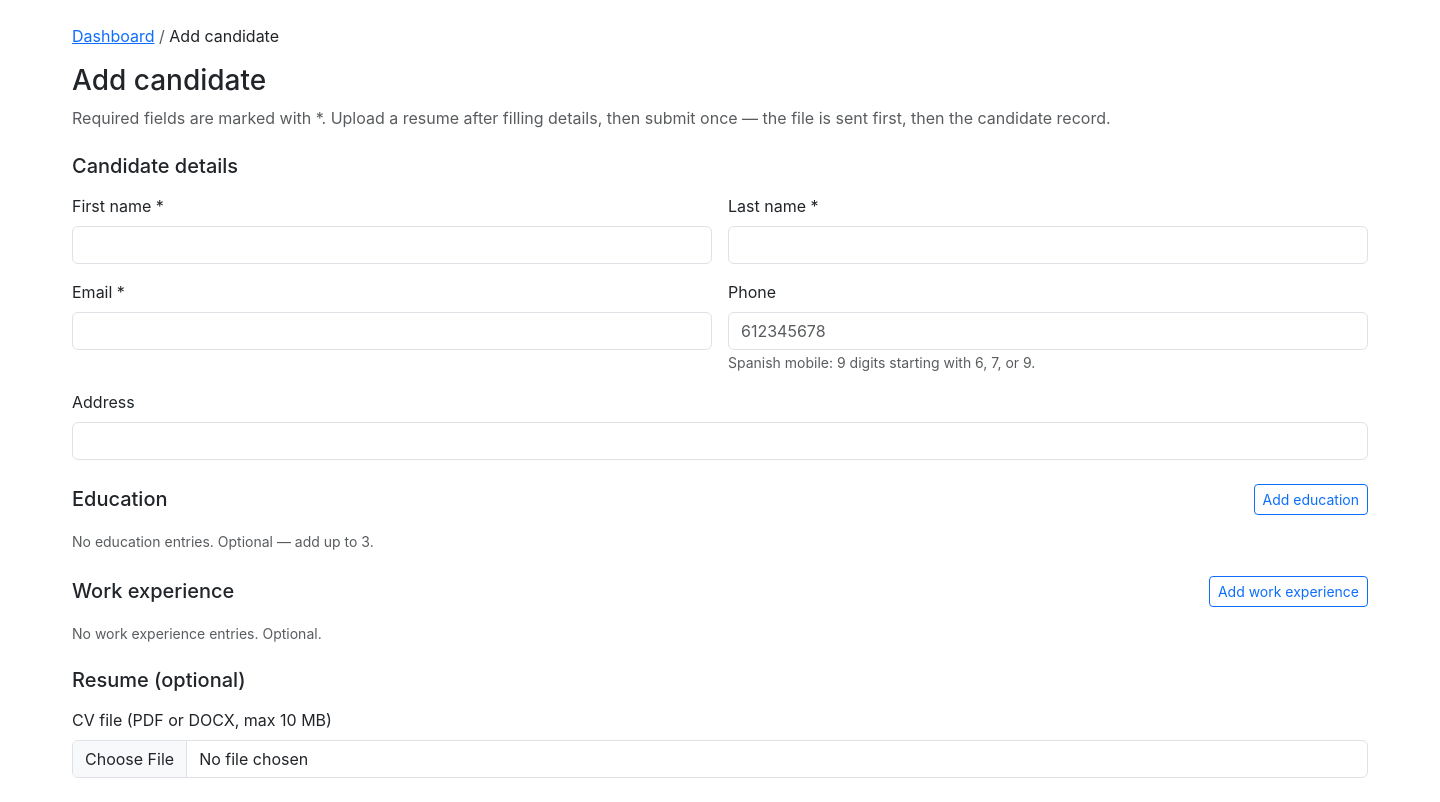
AddCandidatePage › submits when minimal fields are valid
Type "John" into the field labelled "First name *" at (392, 245), box top-left (72, 226), bottom-right (712, 264)
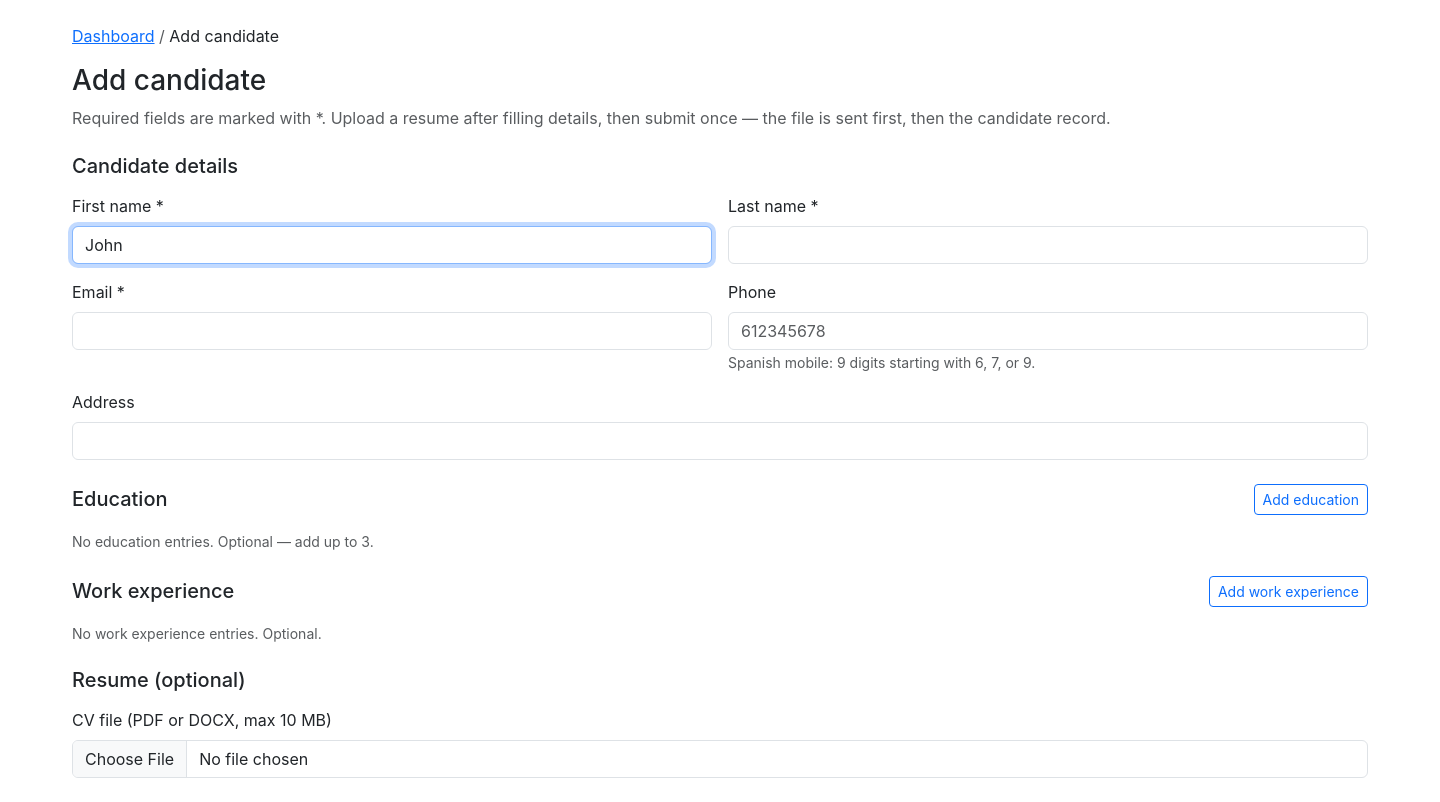
Type "Smith" into the field labelled "Last name *" at (1048, 245), box top-left (728, 226), bottom-right (1368, 264)
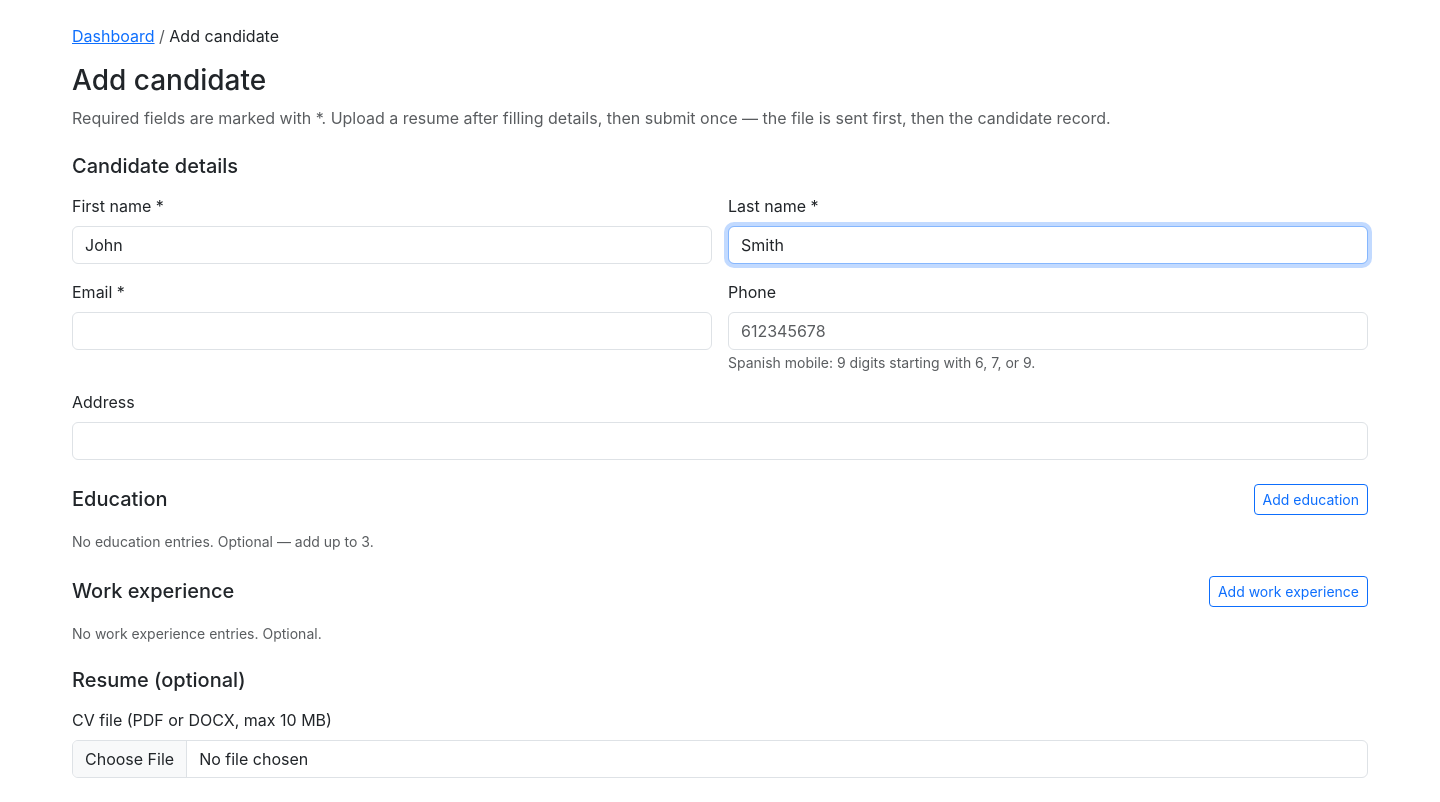
Type "john.smith@example.com" into the field labelled "Email *" at (392, 331), box top-left (72, 312), bottom-right (712, 350)
(page scrolled)
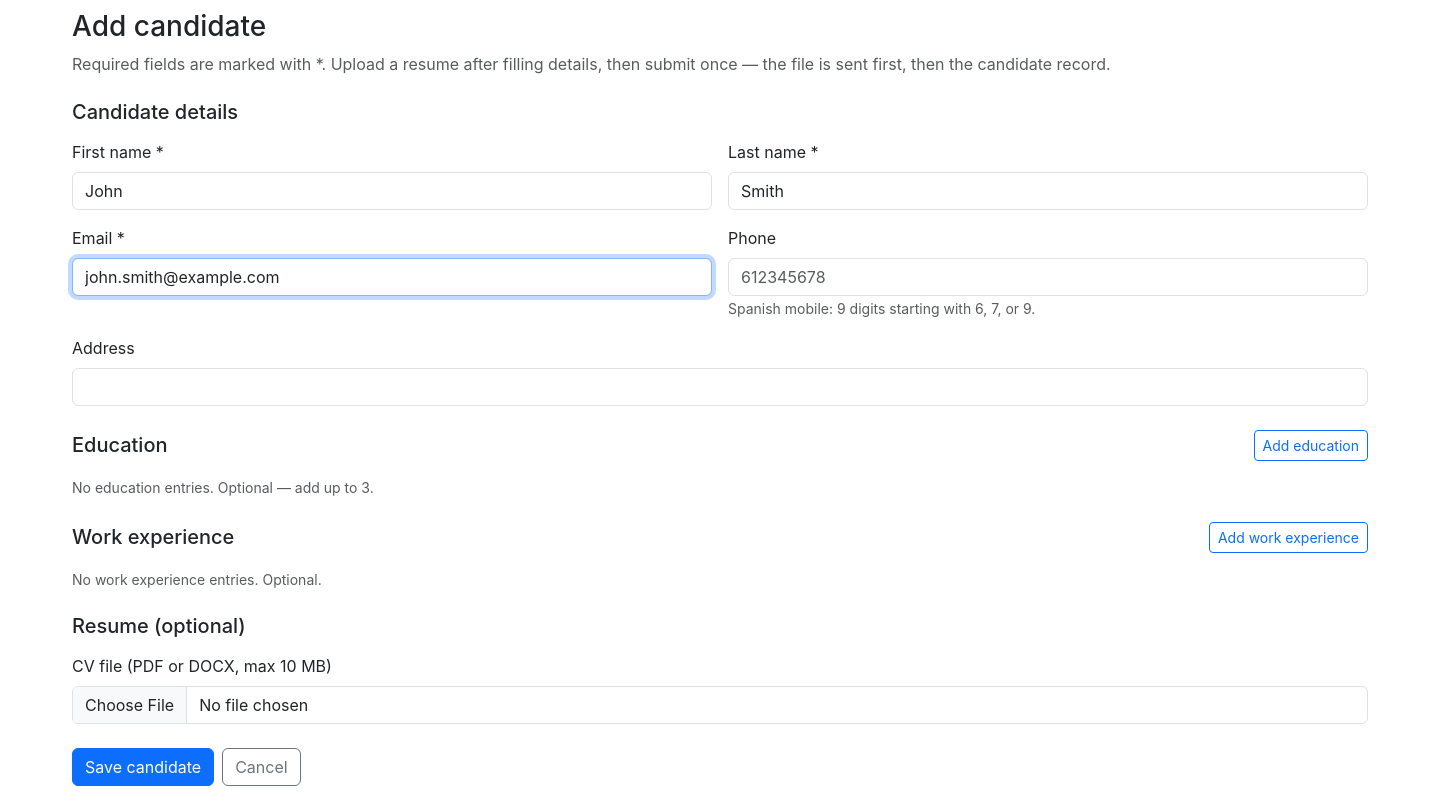
Click the button "Save candidate" at (143, 767), box top-left (72, 748), bottom-right (214, 786)
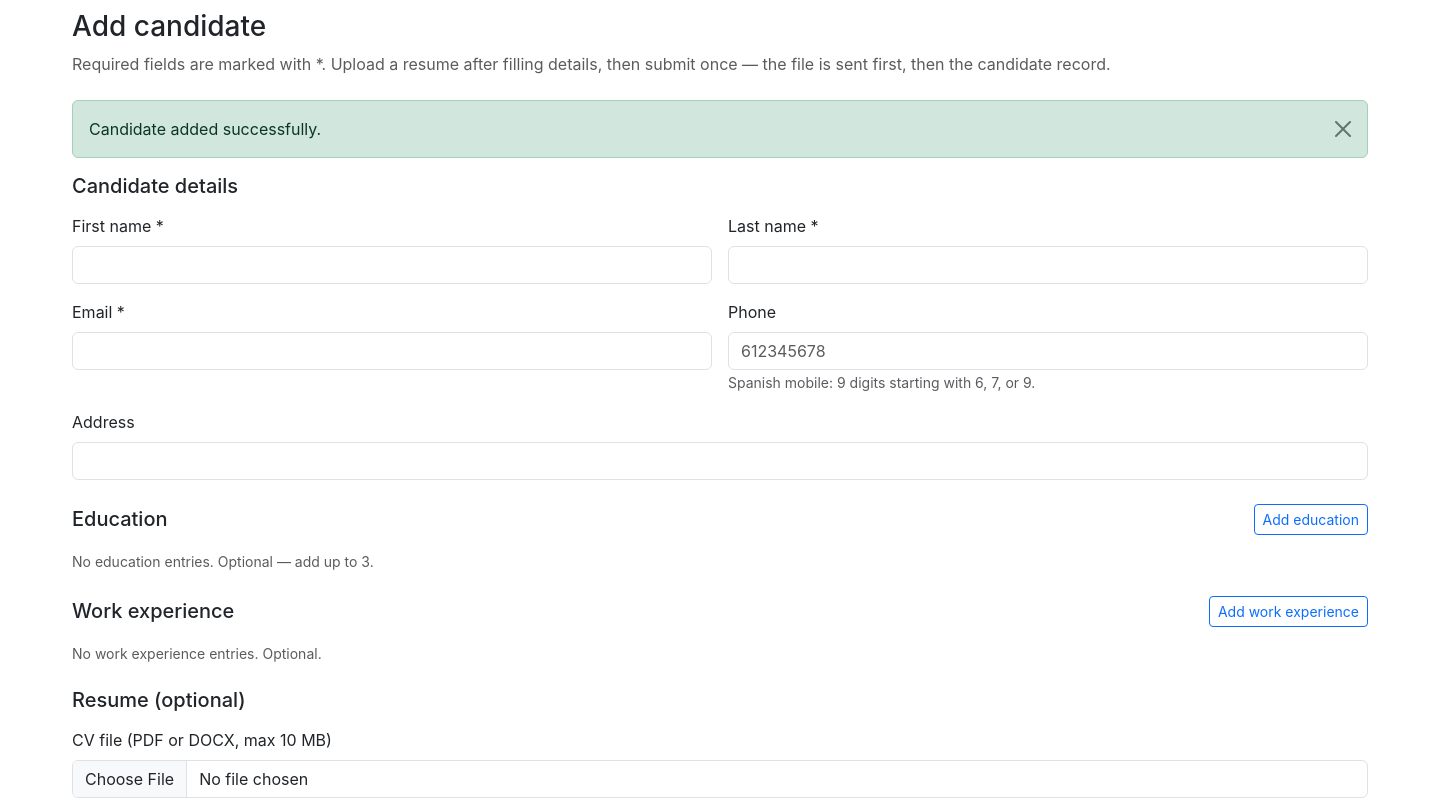
Now the text "Candidate added successfully." is shown, box top-left (72, 100), bottom-right (1368, 158)
